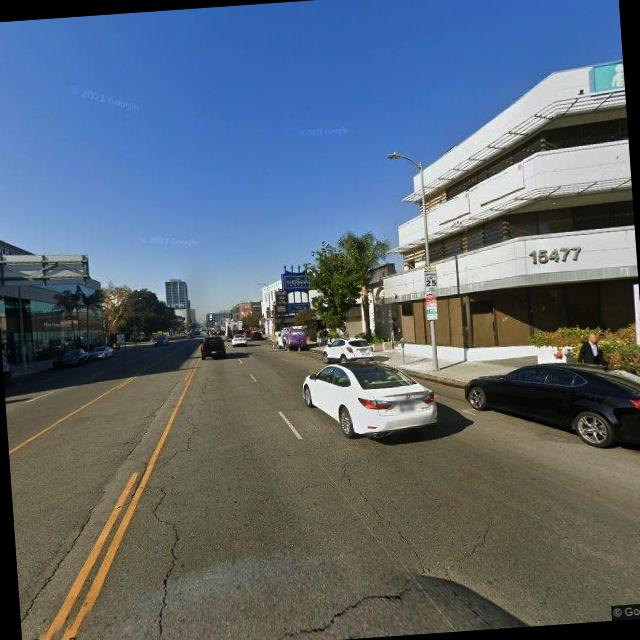crack: (253, 531, 493, 640), (12, 498, 108, 640), (324, 456, 427, 570), (132, 478, 190, 640), (157, 414, 200, 466), (194, 370, 212, 403)
